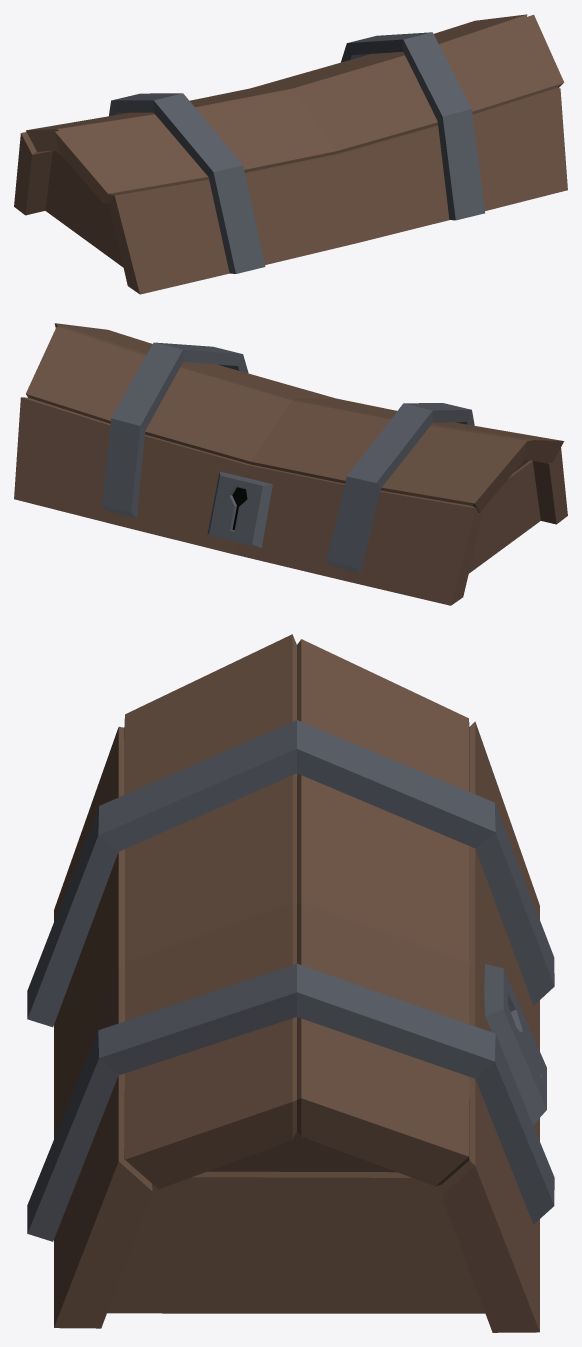
Rendered from ChestLid.fbx.
3 views of the same model, one above another, from view 1: azimuth 30°, elevation 25°; view 2: azimuth 150°, elevation 25°; view 3: azimuth 270°, elevation 25° (orthographic). The views are drawn at different scales.
Parts seen in each view (by area): view 1: ChestLid; view 2: ChestLid; view 3: ChestLid.
Part boxes in pixels (<box>): ChestLid: <box>14,14,567,294</box>; ChestLid: <box>14,323,567,605</box>; ChestLid: <box>27,634,554,1332</box>.
Bounding box in the file's own units: 0.9759 × 0.4648 × 0.259.
